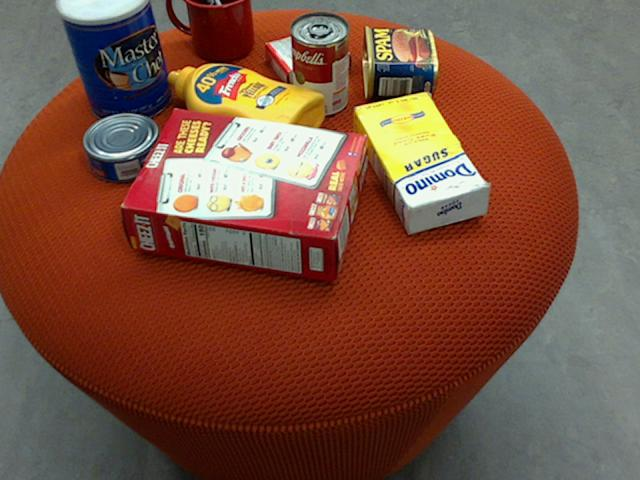cracker_box: (119, 106, 366, 280)
gelatin_box: (264, 25, 351, 88)
large_marker: (204, 0, 242, 52)
master_chef_can: (54, 0, 171, 123)
mug: (167, 0, 253, 60)
mustard_bottle: (167, 64, 324, 157)
potted_meat_can: (360, 25, 437, 100)
sugar_box: (351, 92, 490, 232)
tomato_soup_can: (289, 10, 349, 115)
tuna_fish_can: (81, 112, 163, 182)
